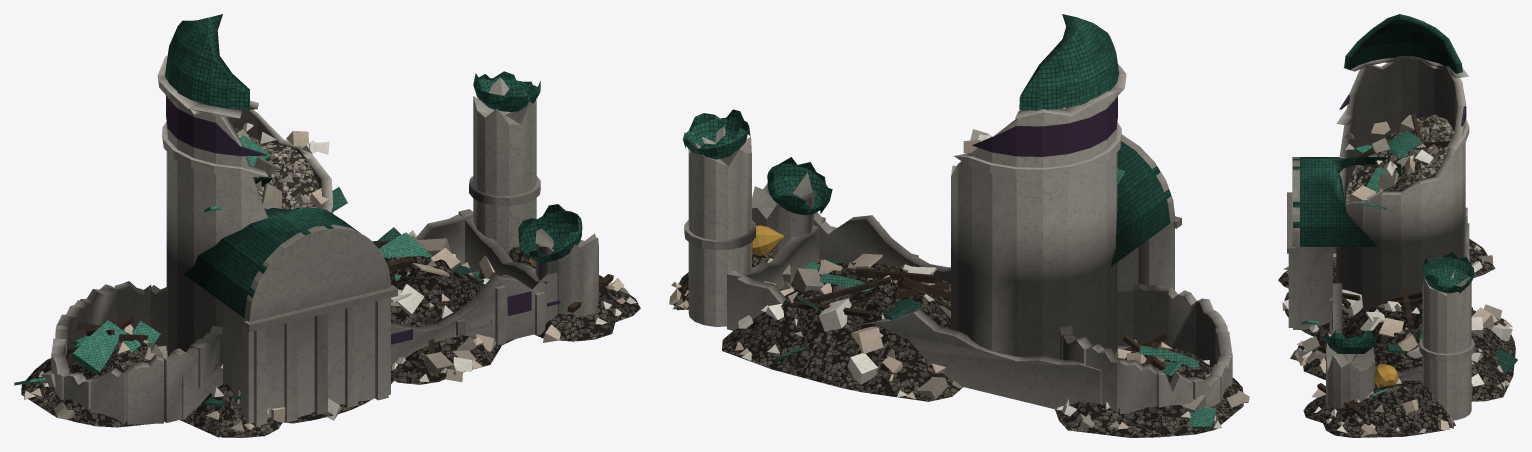
Rendered from CreBuild02b.glb.
3 views of the same model, side by side, from view 1: azimuth 30°, elevation 25°; view 2: azimuth 150°, elevation 25°; view 3: azimuth 270°, elevation 25° (orthographic). The views are drawn at different scales.
Visible parts, largest first — view 1: marble; view 2: marble; view 3: marble.
Boxes of the visible parts, box(x1,y1,x2,y2) form: marble: box(14, 14, 640, 437); marble: box(669, 14, 1249, 437); marble: box(1278, 14, 1517, 437).
Size of the model in its own units: 21.31 by 13.05 by 10.21.
Materials: 6 (4 with a texture image).
